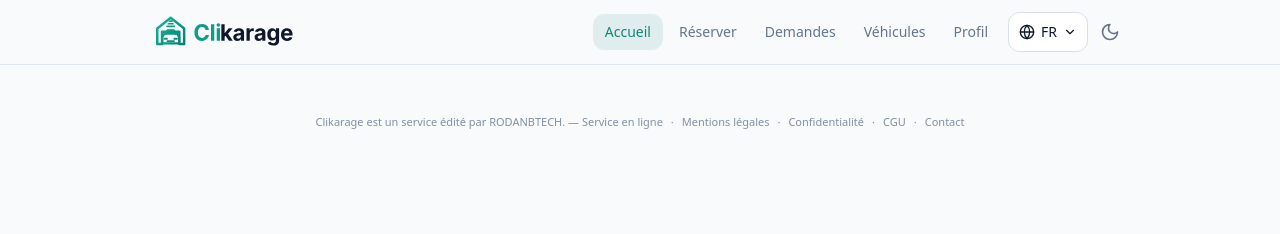
Test: authenticated shell localization › changes the complete client navigation to English from its header
Click the button "FR".
click(1048, 32)  # box [1008, 12, 1088, 52]
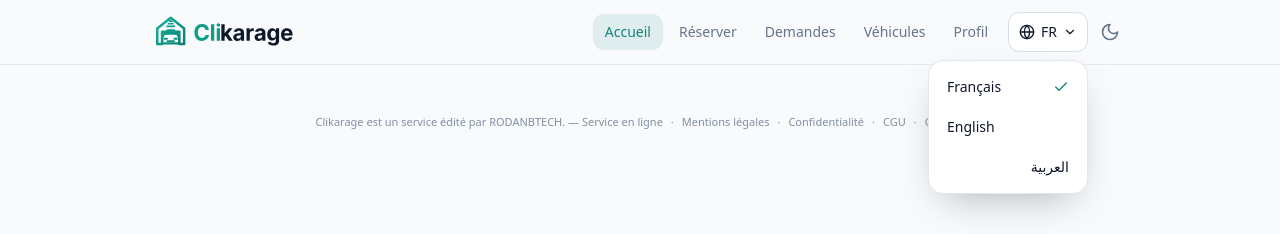
Click the menu item "English".
click(1008, 127)  # box [935, 107, 1081, 147]
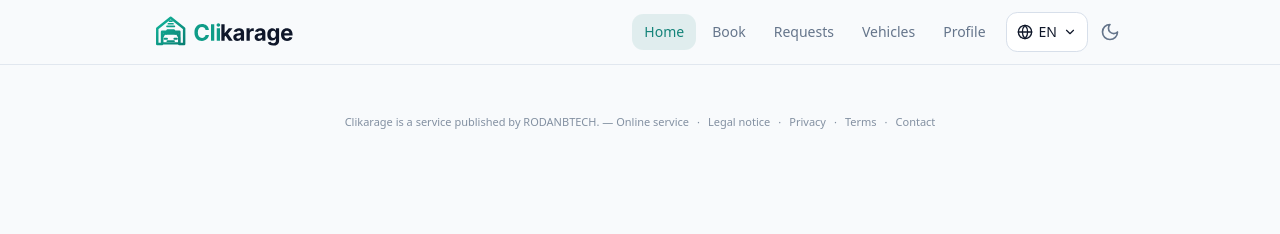
expect the text "Home" is shown: met, box [632, 14, 696, 50]
expect the text "Book" is shown: met, box [712, 22, 746, 41]
expect the text "Requests" is shown: met, box [774, 22, 834, 41]
